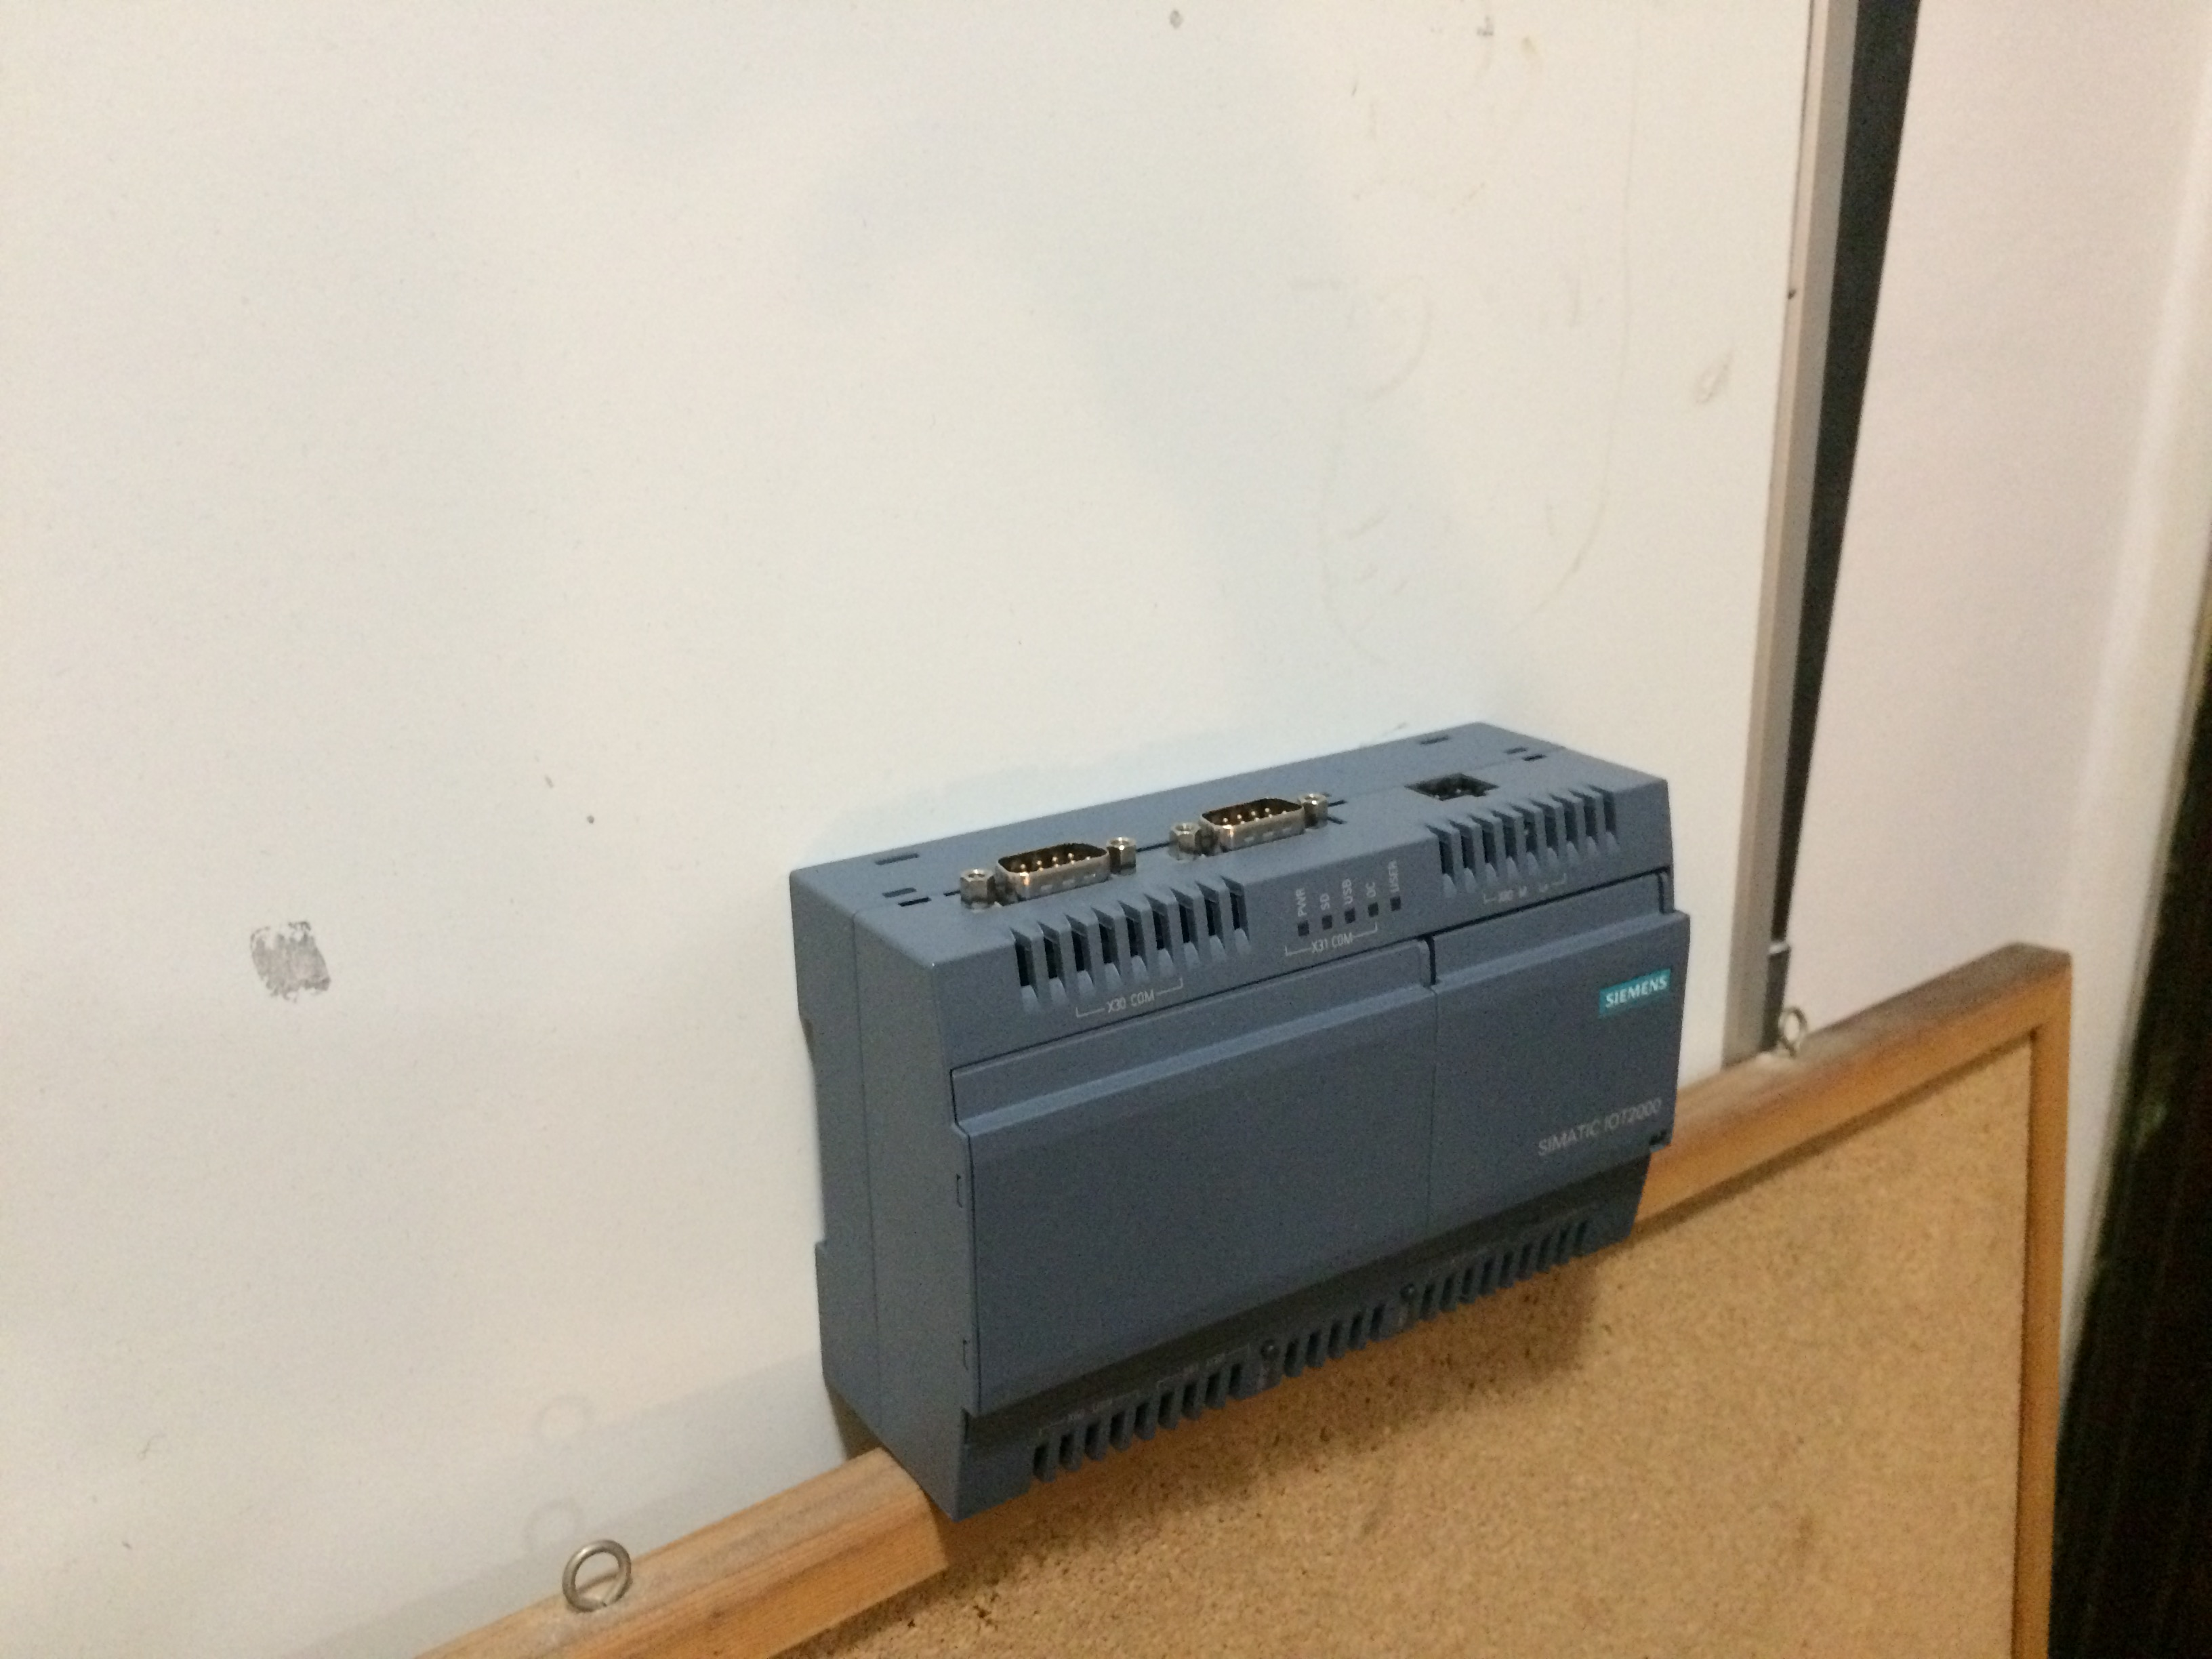iot2000: (784, 716, 1696, 1530)
